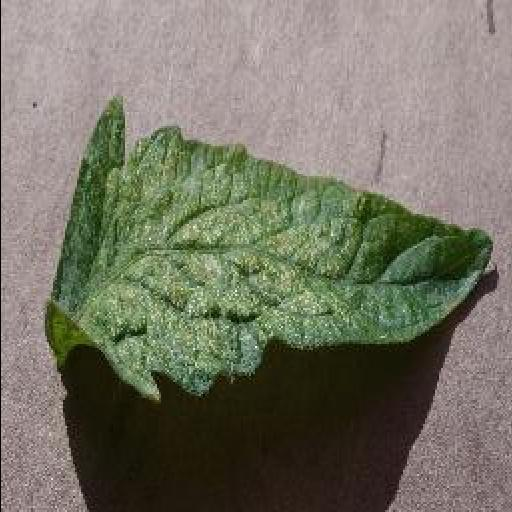disease_tomato: (43, 94, 497, 406)
